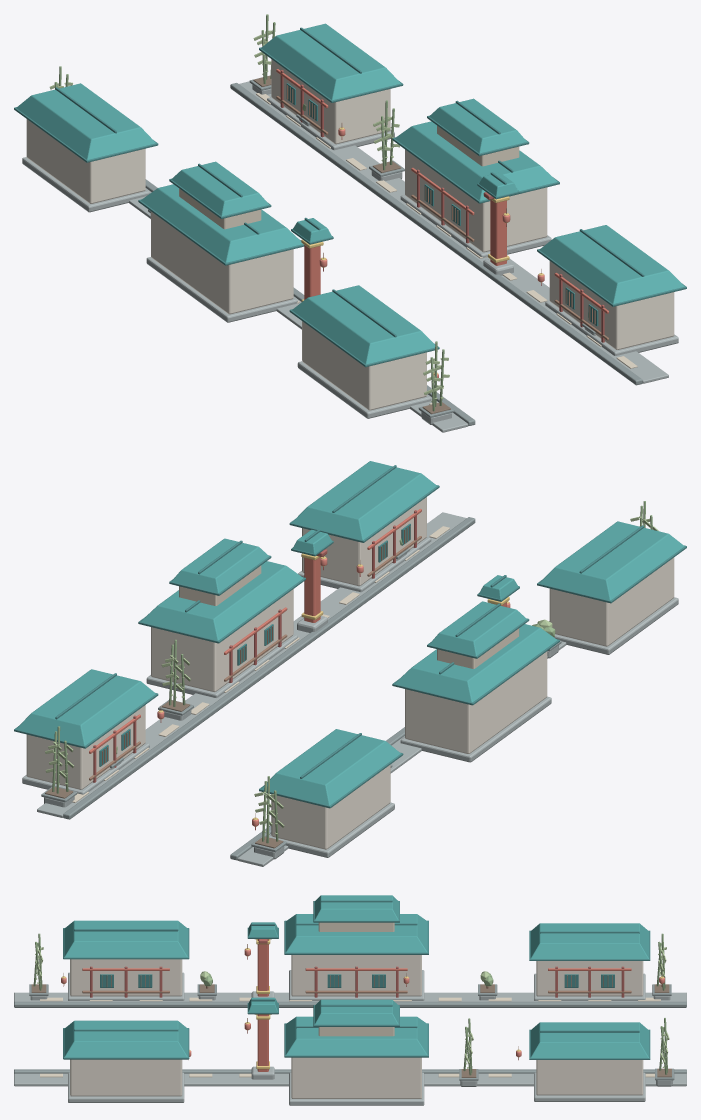
The model's file is ancient_railway.glb.
The picture shows the model from 3 angles, top to bottom: view 1: azimuth 30°, elevation 25°; view 2: azimuth 150°, elevation 25°; view 3: azimuth 270°, elevation 25°; orthographic projection. The views are drawn at different scales.
Visible parts, largest first — view 1: Left_Central_House_Walls, Left_South_House_Roof, Right_South_House_Roof, Right_North_House_Roof, Left_North_House_Roof, Left_South_House_Walls, Right_Central_House_Walls, Left_North_House_Walls, Left_Central_House_Roof, Right_Path_Edge, Right_South_House_Walls, Right_Central_House_Roof (+15 smaller); view 2: Left_Central_House_Walls, Left_South_House_Roof, Right_South_House_Roof, Right_Central_House_Walls, Right_North_House_Roof, Left_North_House_Roof, Left_South_House_Walls, Right_Central_House_Roof, Left_North_House_Walls, Left_Central_House_Roof, Right_Path_Edge, Right_North_House_Walls (+16 smaller); view 3: Right_Central_House_Walls, Left_Central_House_Walls, Right_South_House_Roof, Left_South_House_Roof, Right_South_House_Walls, Left_North_House_Roof, Right_North_House_Roof, Left_Central_House_Roof, Left_Path_Edge, Right_Central_House_Roof, Right_North_House_Walls, Left_South_House_Walls (+26 smaller).
Boxes of the visible parts, x1,y1,x2,y2 form: Left_Central_House_Walls: [151, 211, 293, 314]; Left_South_House_Roof: [292, 285, 435, 364]; Right_South_House_Roof: [539, 225, 684, 303]; Right_North_House_Roof: [261, 23, 400, 100]; Left_North_House_Roof: [16, 83, 155, 159]; Left_South_House_Walls: [302, 321, 426, 410]; Right_Central_House_Walls: [405, 149, 547, 252]; Left_North_House_Walls: [26, 119, 145, 203]; Left_Central_House_Roof: [141, 184, 302, 262]; Right_Path_Edge: [230, 83, 642, 385]; Right_South_House_Walls: [549, 261, 674, 349]; Right_Central_House_Roof: [395, 121, 557, 200]; Left_Central_House_Walls: [405, 651, 547, 753]; Left_South_House_Roof: [539, 521, 684, 600]; Right_South_House_Roof: [292, 461, 436, 539]; Right_Central_House_Walls: [151, 589, 293, 692]; Right_North_House_Roof: [16, 669, 155, 745]; Left_North_House_Roof: [261, 729, 400, 805]; Left_South_House_Walls: [549, 557, 674, 646]; Right_Central_House_Roof: [141, 561, 303, 640]; Left_North_House_Walls: [271, 764, 390, 849]; Left_Central_House_Roof: [395, 624, 557, 702]; Right_Path_Edge: [63, 517, 475, 819]; Right_North_House_Walls: [26, 705, 145, 789]; Right_Central_House_Walls: [291, 1057, 421, 1098]; Left_Central_House_Walls: [291, 955, 421, 996]; Right_South_House_Roof: [64, 1020, 187, 1057]; Left_South_House_Roof: [64, 920, 187, 957]; Right_South_House_Walls: [70, 1059, 182, 1096]; Left_North_House_Roof: [530, 923, 648, 958]; Right_North_House_Roof: [530, 1022, 648, 1057]; Left_Central_House_Roof: [285, 914, 427, 952]; Left_Path_Edge: [14, 1001, 686, 1007]; Right_Central_House_Roof: [285, 1016, 427, 1055]; Right_North_House_Walls: [536, 1060, 643, 1095]; Left_South_House_Walls: [70, 959, 182, 996].
Size of the model in its own units: 25.71 by 7.79 by 54.
